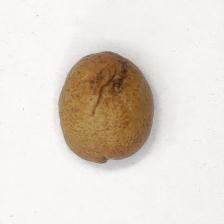NG: (90, 50, 131, 120)
